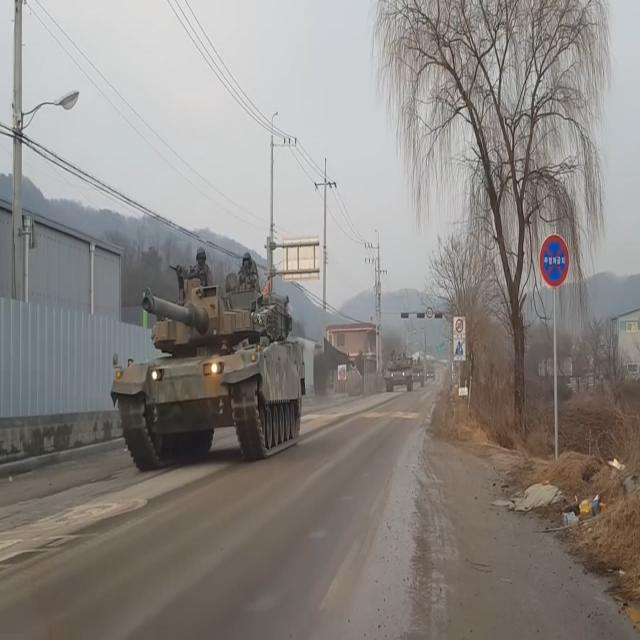korea tank: (109, 247, 305, 475)
